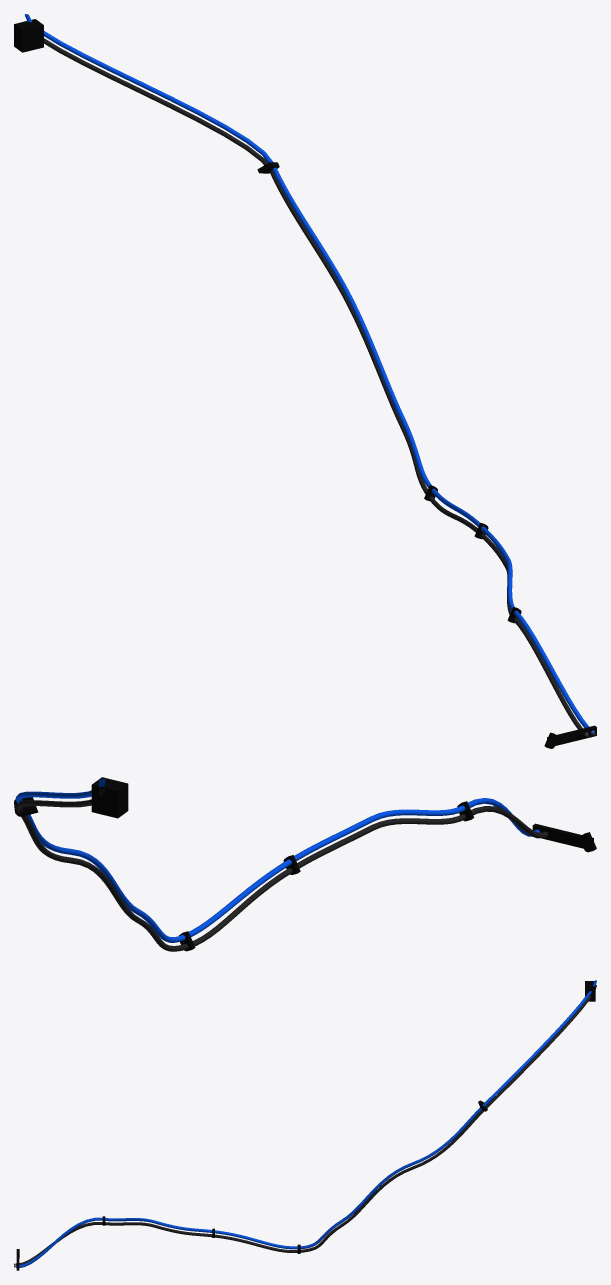
Rendered from manguera_pared.fbx.
3 views of the same model, one above another, from view 1: azimuth 30°, elevation 25°; view 2: azimuth 150°, elevation 25°; view 3: azimuth 270°, elevation 25° (orthographic). The views are drawn at different scales.
Visible parts, largest first — view 1: BézierCurve, BézierCurve.001; view 2: BézierCurve.001, BézierCurve, Cube.023, Cube.026; view 3: BézierCurve, BézierCurve.001.
Boxes of the visible parts, x1=… form: BézierCurve: x1=24, y1=14, x2=589, y2=727; BézierCurve.001: x1=44, y1=38, x2=582, y2=729; BézierCurve.001: x1=16, y1=789, x2=548, y2=951; BézierCurve: x1=15, y1=779, x2=540, y2=942; Cube.023: x1=91, y1=777, x2=128, y2=818; Cube.026: x1=532, y1=823, x2=593, y2=848; BézierCurve: x1=19, y1=980, x2=596, y2=1267; BézierCurve.001: x1=19, y1=985, x2=596, y2=1264.
Size of the model in its own units: 180 by 375 by 768.
